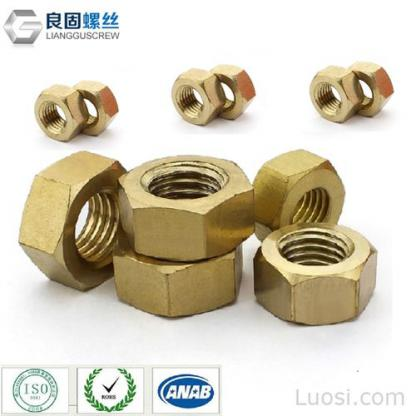FOD: (16, 150, 134, 293), (113, 148, 257, 262), (252, 219, 380, 328), (110, 226, 247, 320), (254, 145, 352, 251), (168, 67, 226, 127), (337, 60, 397, 118), (198, 62, 257, 120), (32, 85, 89, 145), (309, 64, 362, 127), (67, 80, 122, 138)
